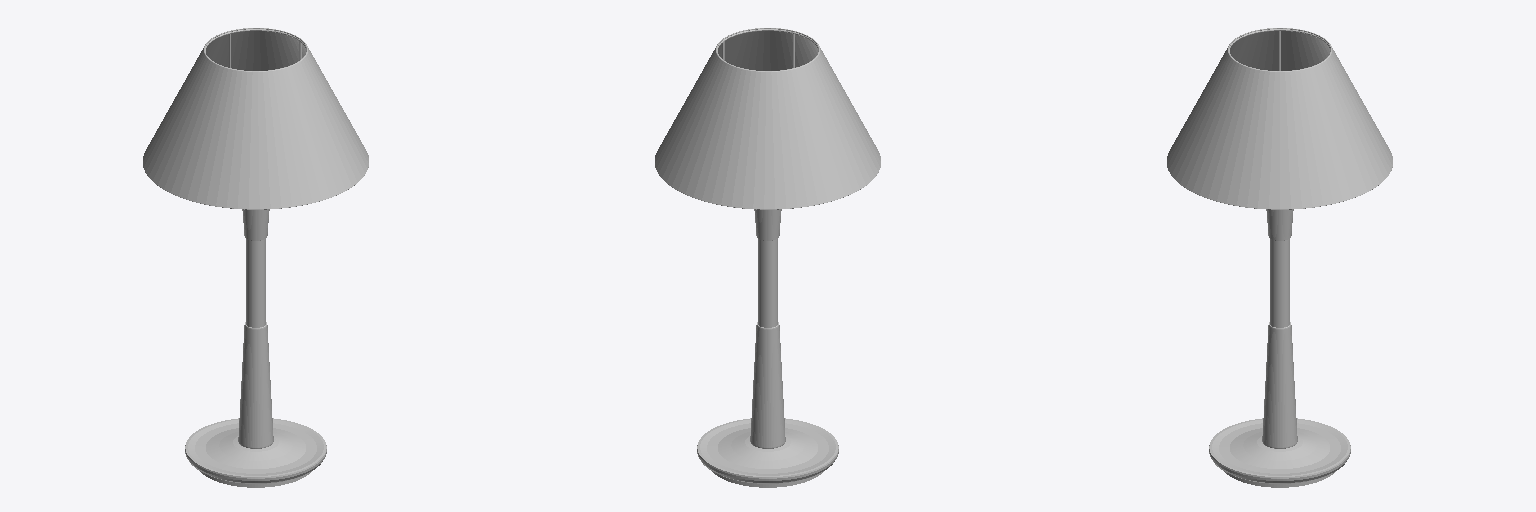
The model's file is lampu.obj.
3 views of the same model, side by side, from view 1: azimuth 30°, elevation 25°; view 2: azimuth 150°, elevation 25°; view 3: azimuth 270°, elevation 25° (orthographic).
Visible parts, largest first — view 1: Top, Base, Support, Metal_Support, Support.001; view 2: Top, Base, Support, Metal_Support, Support.001; view 3: Top, Base, Support, Metal_Support, Support.001.
Boxes of the visible parts, box(x1,y1,x2,y2) form: Top: box(143, 28, 368, 209); Base: box(185, 418, 326, 487); Support: box(238, 322, 273, 448); Metal_Support: box(246, 239, 265, 327); Support.001: box(242, 209, 269, 240); Top: box(655, 28, 880, 209); Base: box(697, 418, 838, 487); Support: box(750, 322, 785, 448); Metal_Support: box(758, 239, 777, 327); Support.001: box(754, 209, 781, 240); Top: box(1167, 28, 1392, 209); Base: box(1209, 418, 1350, 487); Support: box(1262, 322, 1297, 448); Metal_Support: box(1270, 239, 1289, 327); Support.001: box(1266, 209, 1293, 240).
Size of the model in its own units: 0.1915 by 0.3842 by 0.1915.